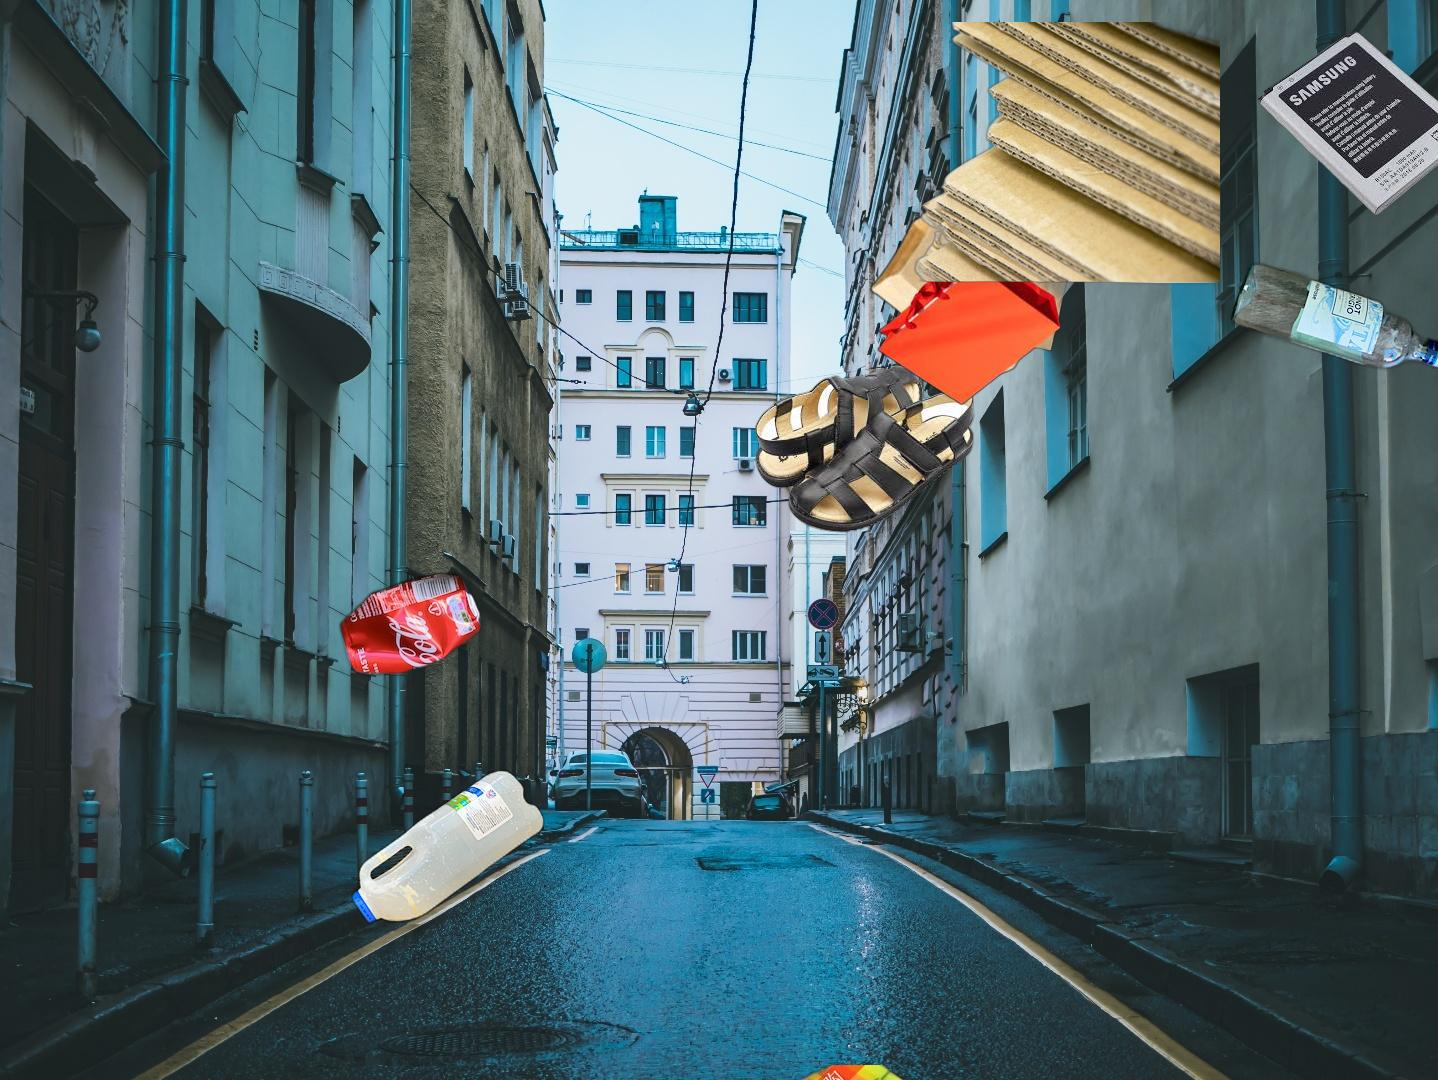battery: (1255, 28, 1438, 218)
glass: (1226, 258, 1438, 381)
metal-cans: (335, 567, 487, 681)
paper-bag: (868, 195, 1071, 407)
penholder: (730, 1065, 1040, 1080)
plastic-bottles: (347, 763, 548, 929)
shoes: (753, 360, 976, 535)
trashbox-cardboard: (911, 22, 1220, 302)
